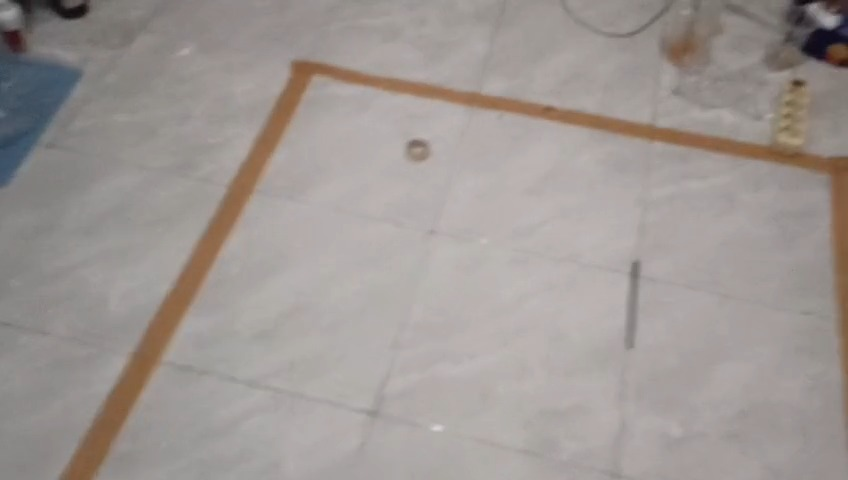floor marking: (62, 61, 847, 479)
